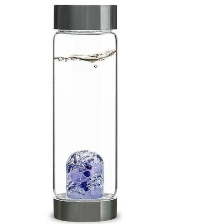bottle: (47, 1, 125, 223)
